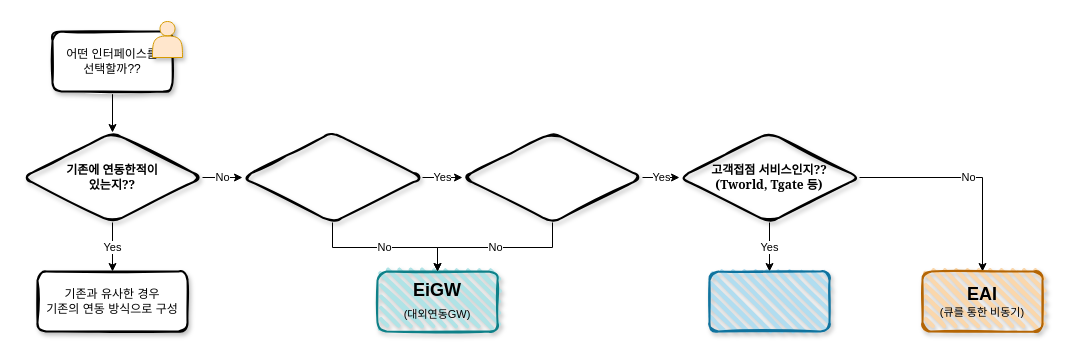
Some shapes in this 1066 by 357 pixel diagram are drawn without their labels. Each missing label, with the centre of its shape:
"MCG (동기식)" belongs at point 770,302.
"SKT 시스템??" belongs at point 333,178.
"T망내 연동인지??" belongs at point 553,178.
